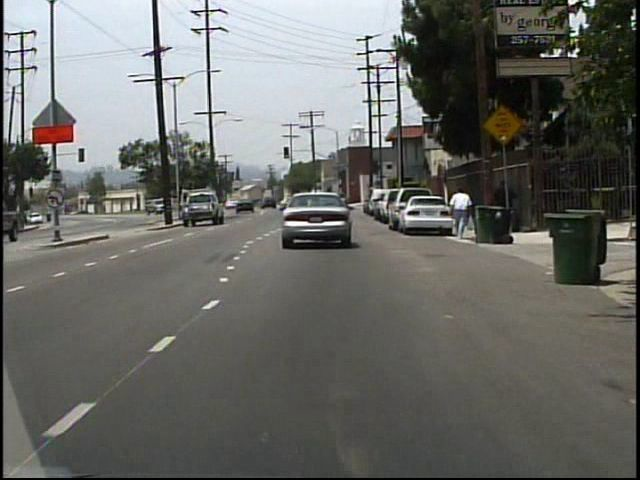person: (447, 186, 473, 242)
